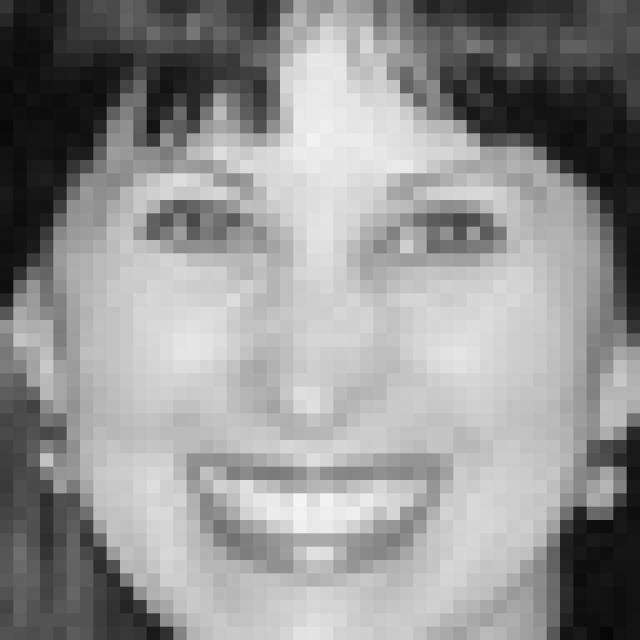happy: (103, 146, 558, 588)
